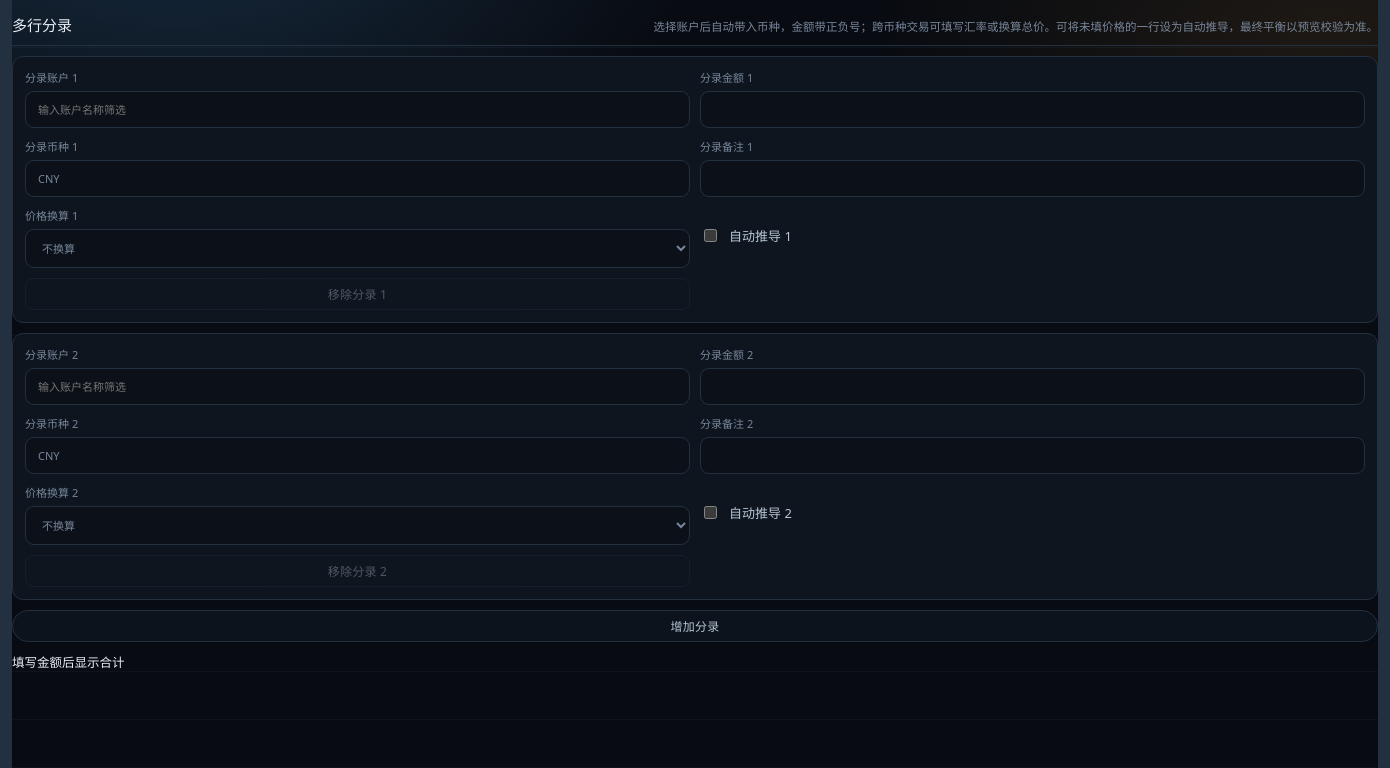
Scenario: 带空白及逗号的分录实时汇总，失焦规范化，币种候选可 Tab 采纳
In the field labelled "分录金额 1": (1032, 110) [700,91,1365,128], type " 2,000.01 "
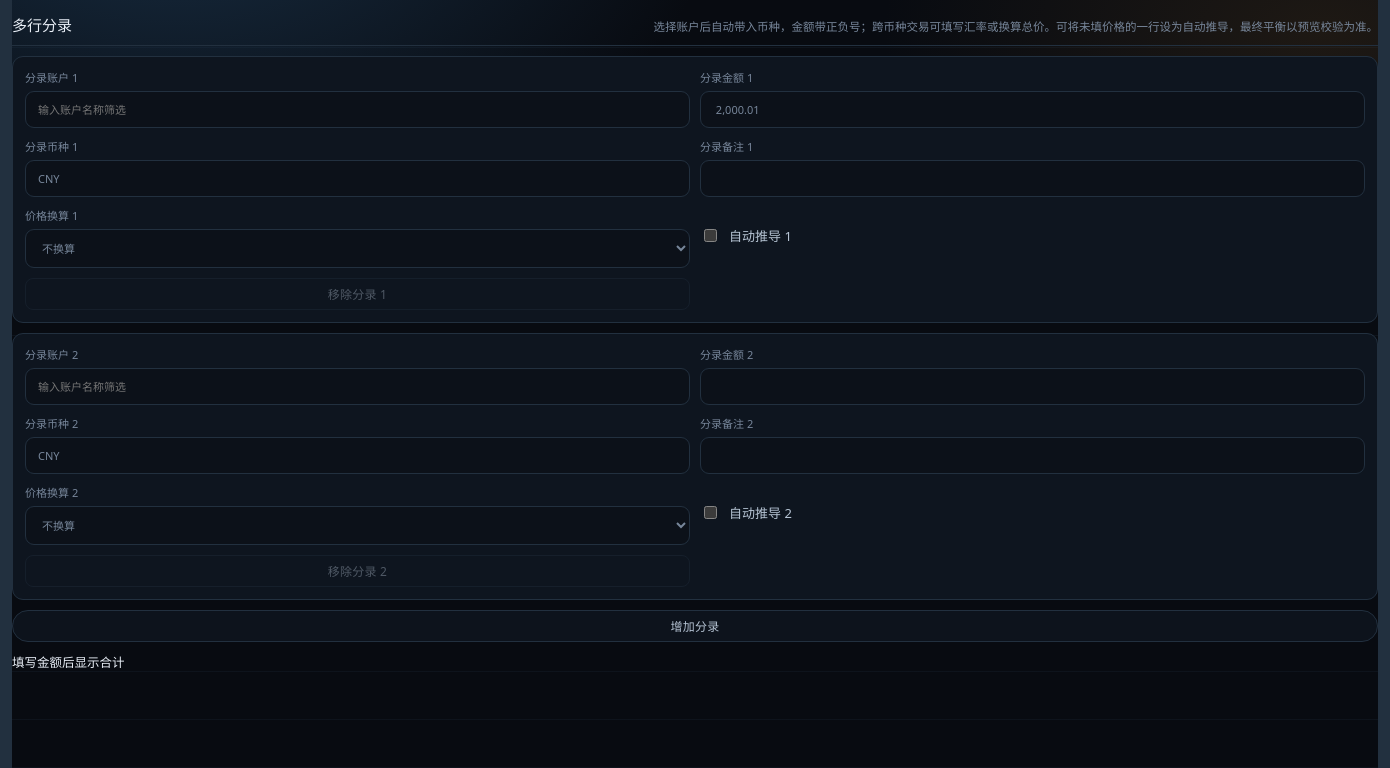
In the field labelled "分录金额 2": (1032, 386) [700,368,1365,405], type " -2,000.01 "
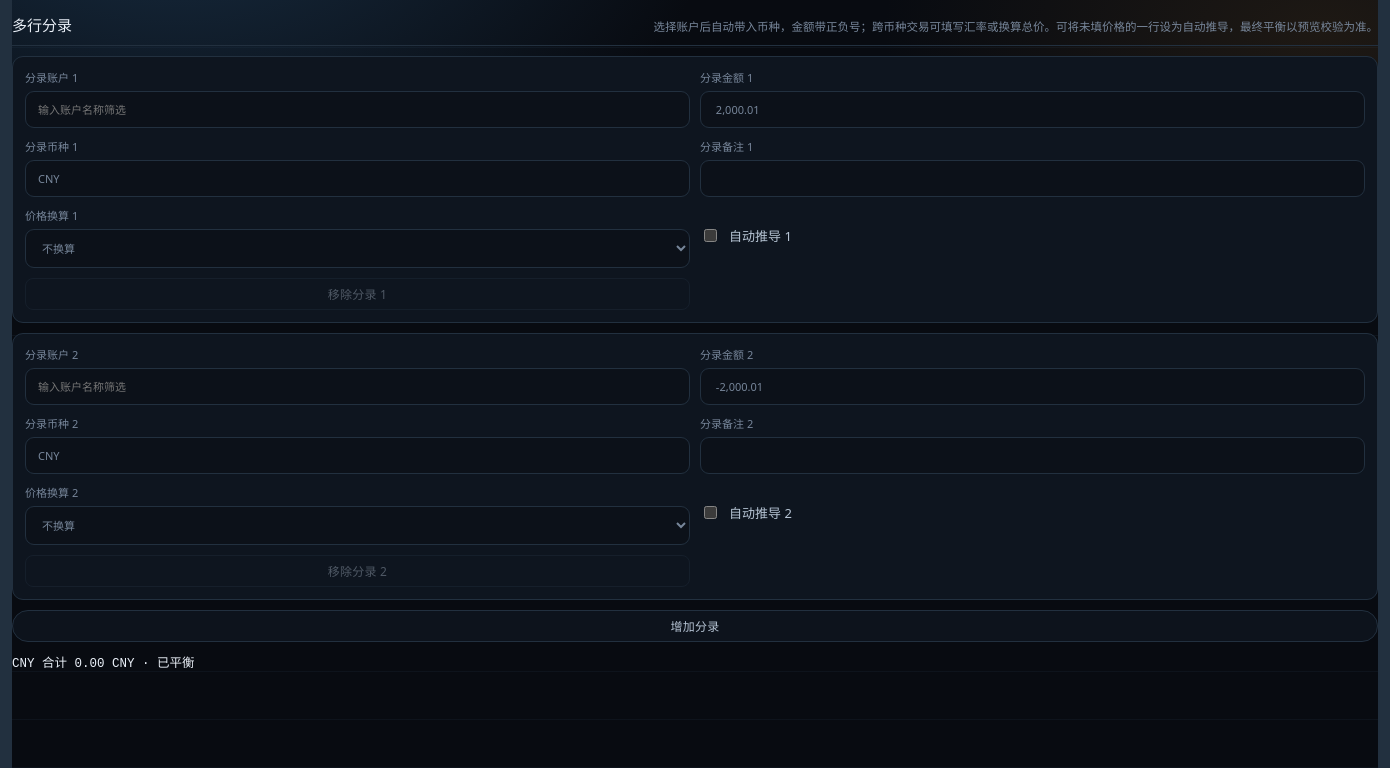
Expected: the text "CNY 合计 0.00 CNY · 已平衡" is shown, [12,652,195,671]
Leave the field labelled "分录金额 1", box [700,91,1365,128]
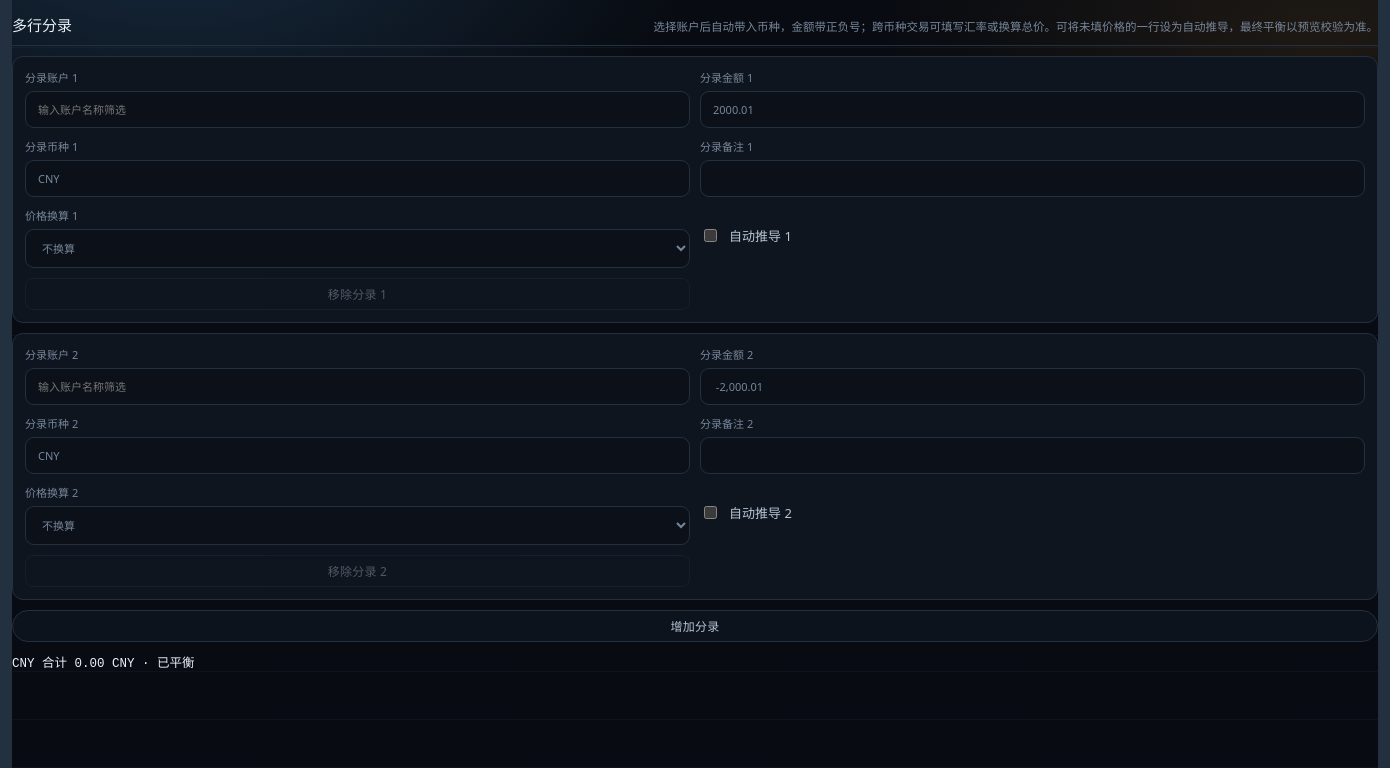
Expected: the field labelled "分录金额 1" holds "2000.01", [700,91,1365,128]
In the dropdown labelled "分录账户 1": (358, 110) [25,91,690,128], type "Assets:Bank"
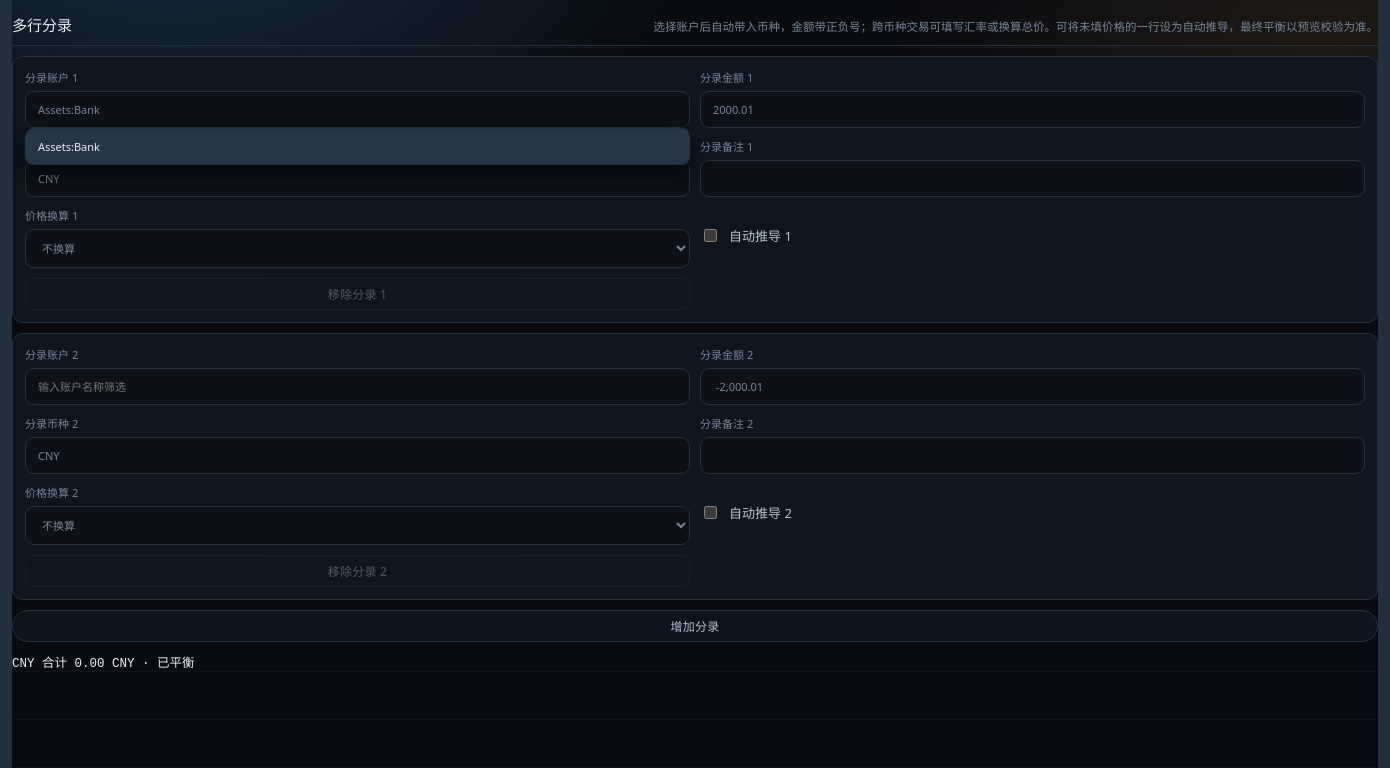
Replace the text in the dropdown labelled "分录币种 1" with "U": (358, 178) [25,160,690,197]
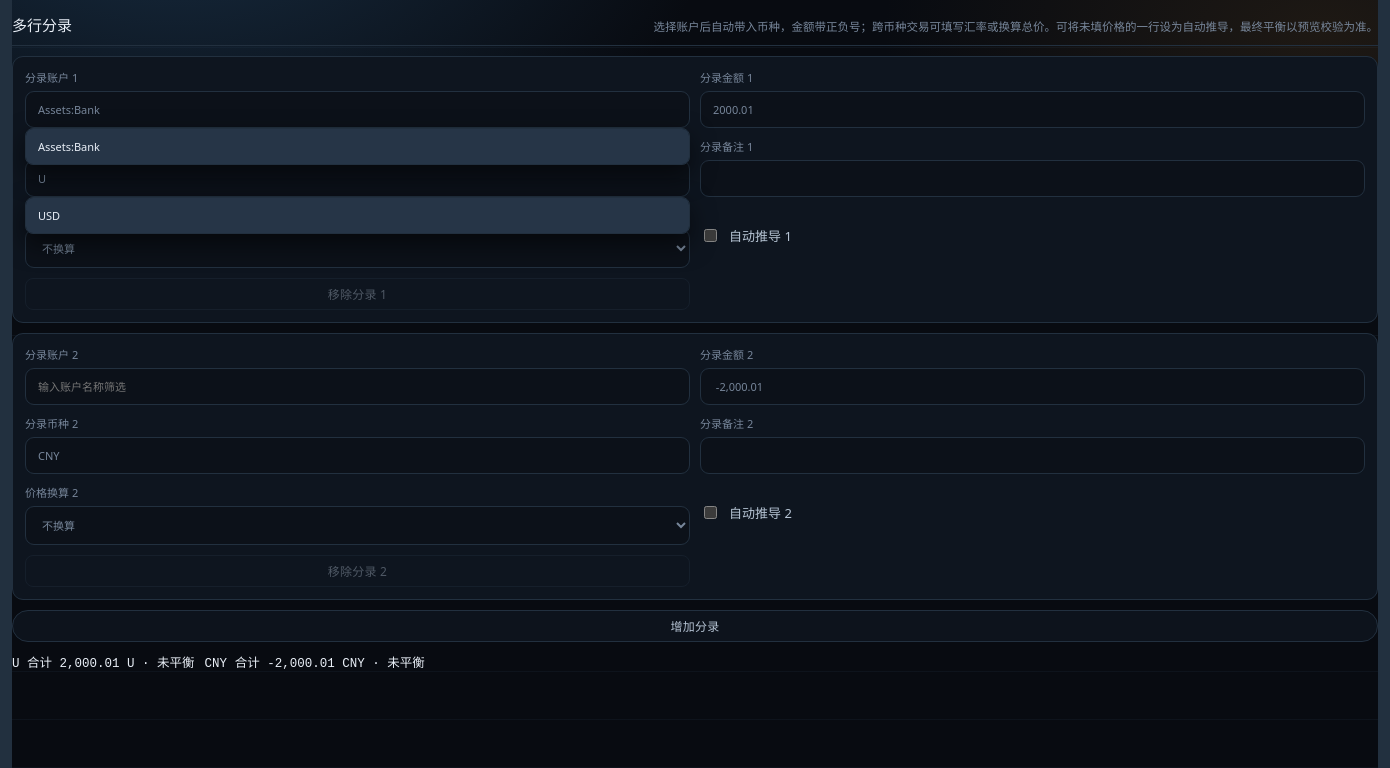
Press Tab in the dropdown labelled "分录币种 1", box [25,160,690,197]
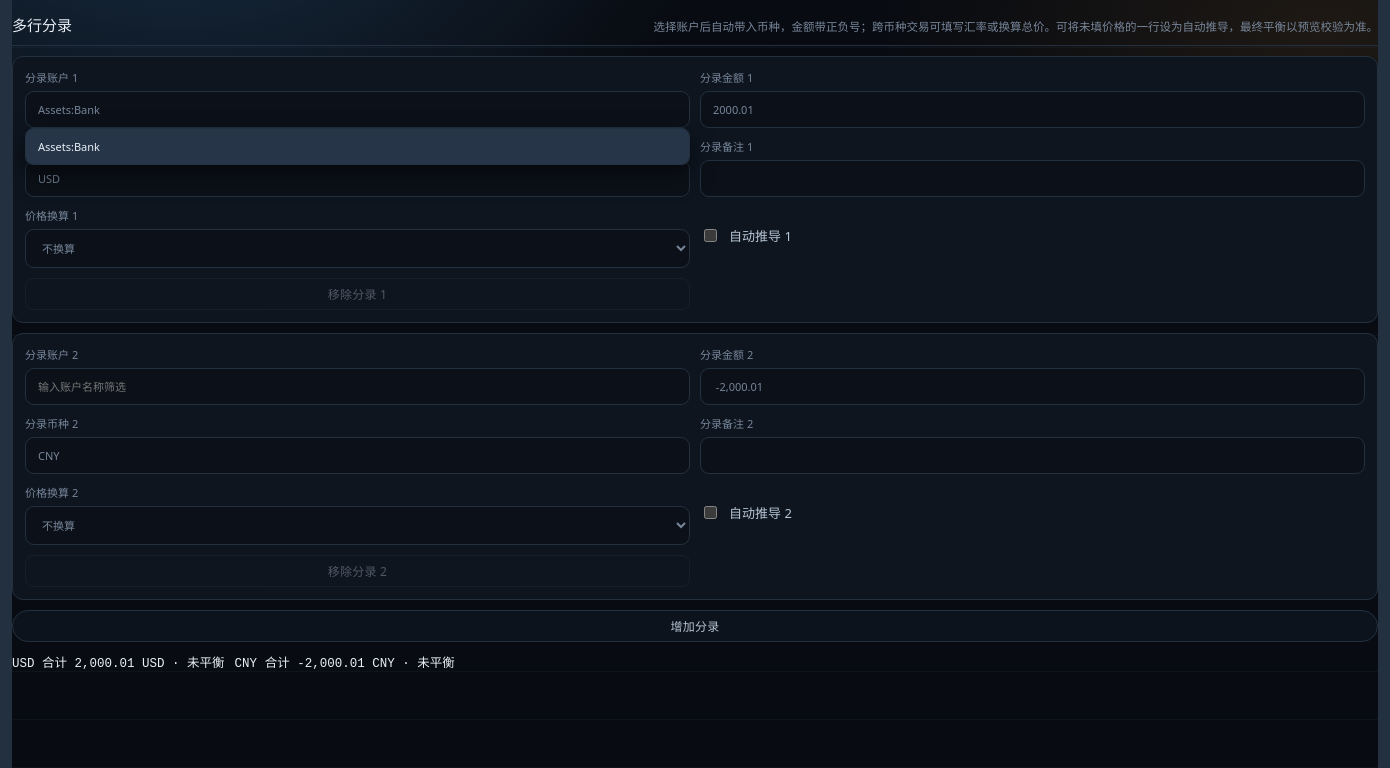
Expected: the dropdown labelled "分录币种 1" holds "USD", [25,160,690,197]
